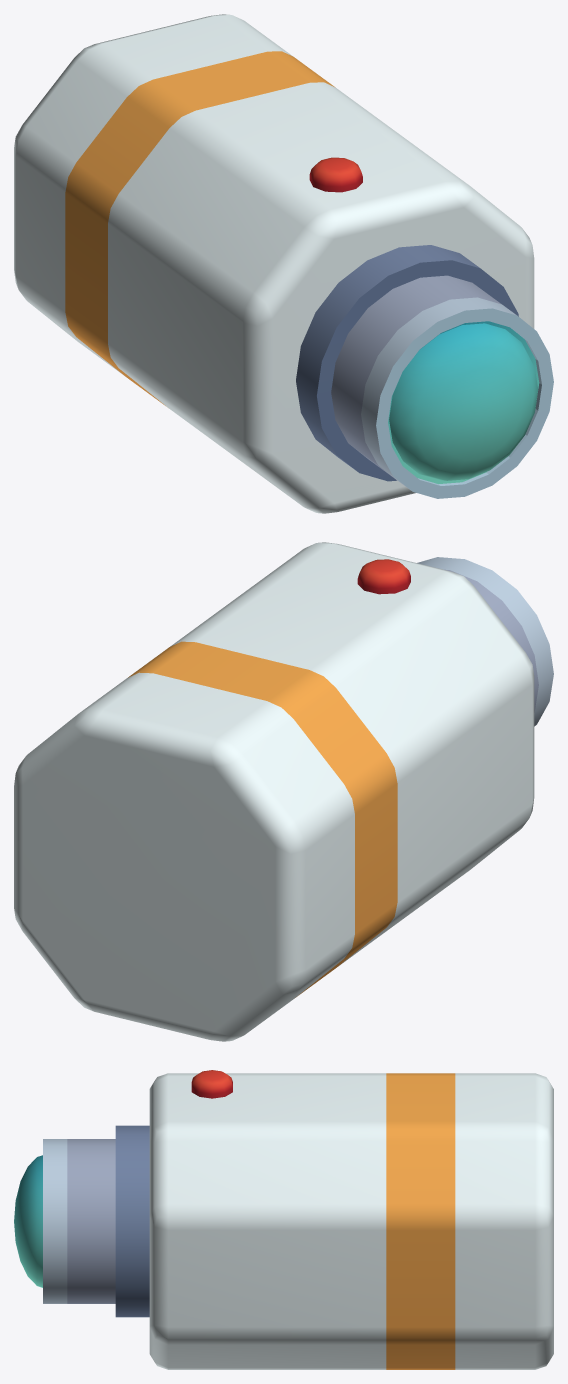
The model's file is camera.fbx.
3 views of the same model, one above another, from view 1: azimuth 30°, elevation 25°; view 2: azimuth 150°, elevation 25°; view 3: azimuth 270°, elevation 25° (orthographic). The views are drawn at different scales.
Visible parts, largest first — view 1: camera; view 2: camera; view 3: camera.
Boxes of the visible parts, x1,y1,x2,y2 form: camera: [14, 14, 553, 513]; camera: [14, 542, 553, 1041]; camera: [14, 1070, 553, 1369].
Bounding box in the file's own units: 1 × 1.06 × 2.
